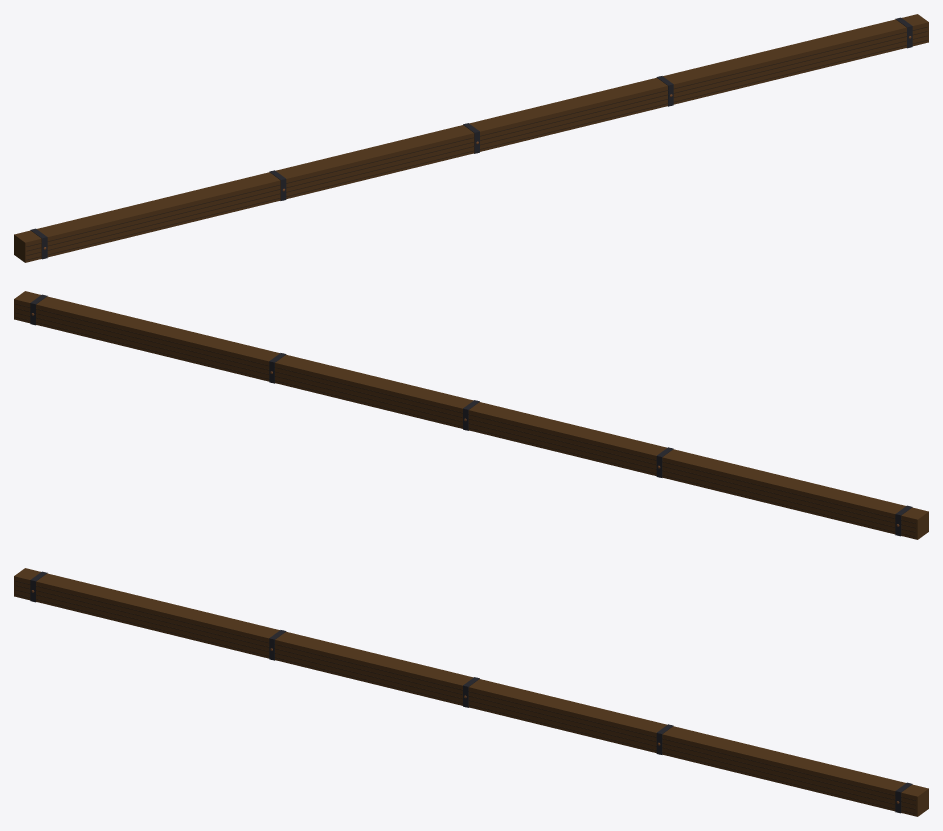
The model's file is mia-beam.glb.
3 views of the same model, one above another, from view 1: azimuth 30°, elevation 25°; view 2: azimuth 150°, elevation 25°; view 3: azimuth 330°, elevation 25° (orthographic).
Visible parts, largest first — view 1: Body_wood, Body_grain, Body_iron; view 2: Body_wood, Body_grain, Body_iron; view 3: Body_wood, Body_grain, Body_iron.
Boxes of the visible parts, x1,y1,x2,y2 form: Body_wood: (14, 14, 928, 262); Body_grain: (26, 26, 927, 260); Body_iron: (30, 17, 912, 259); Body_wood: (14, 291, 928, 539); Body_grain: (15, 303, 916, 537); Body_iron: (30, 294, 912, 536); Body_wood: (14, 568, 928, 816); Body_grain: (15, 580, 916, 814); Body_iron: (30, 571, 912, 813).
Bounding box in the file's own units: 14 × 0.312 × 0.342.
